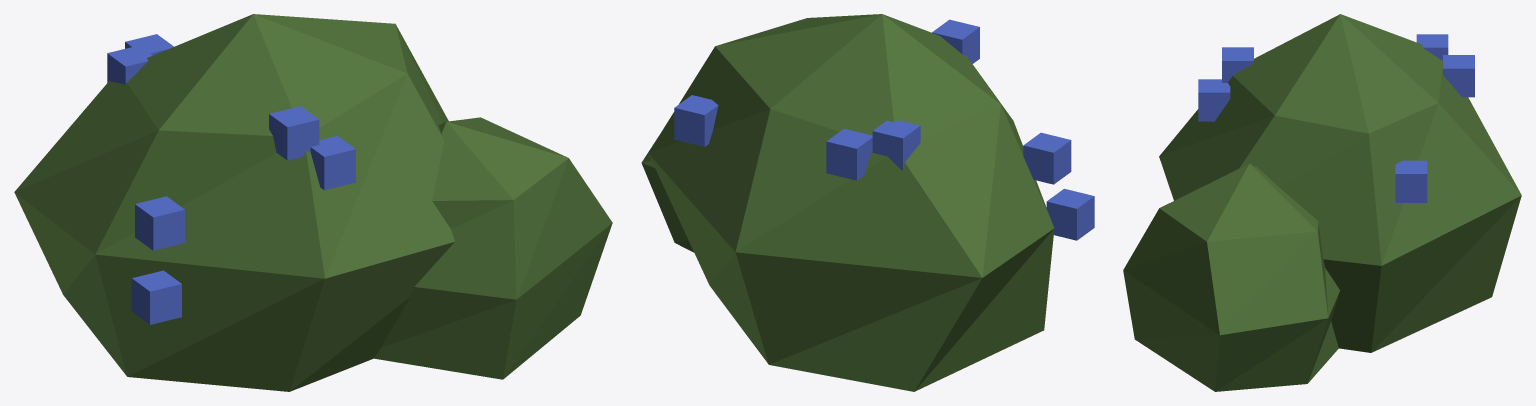
Rendered from berry_bush_2.obj.
3 renders of one model, left to right at view 1: azimuth 30°, elevation 25°; view 2: azimuth 150°, elevation 25°; view 3: azimuth 270°, elevation 25°, orthographic. The views are drawn at different scales.
Visible parts, largest first — view 1: berry_bush_2; view 2: berry_bush_2; view 3: berry_bush_2.
Boxes of the visible parts, box(x1,y1,x2,y2) form: berry_bush_2: box(14, 14, 612, 391); berry_bush_2: box(641, 14, 1094, 391); berry_bush_2: box(1123, 14, 1521, 391).
Size of the model in its own units: 0.6529 by 0.42 by 0.5622.
